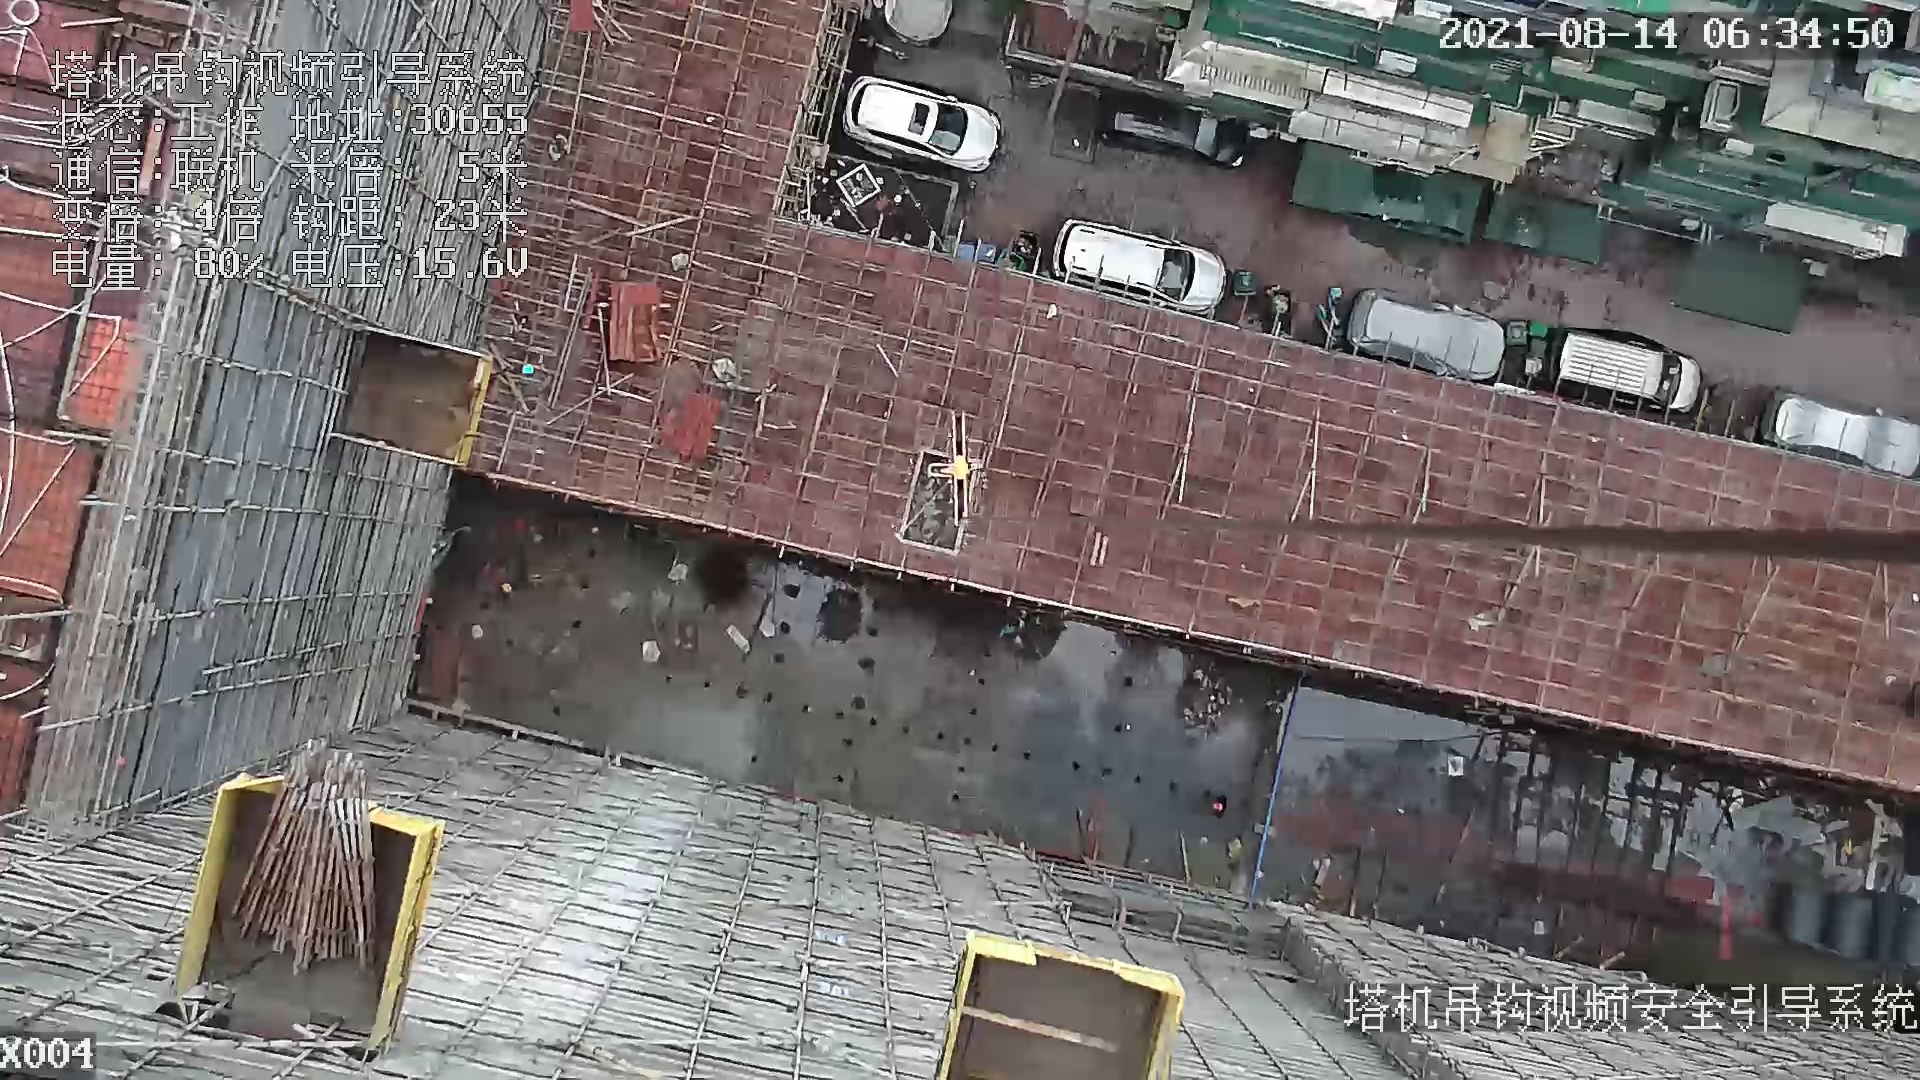hook: (928, 411, 973, 527)
hopper: (899, 442, 988, 572)
scaffold: (237, 750, 394, 981)
